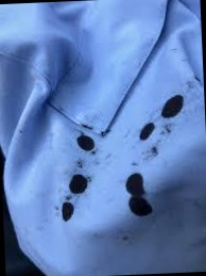ink: (126, 174, 152, 217), (161, 96, 183, 118), (68, 174, 88, 193), (76, 134, 94, 151), (61, 201, 74, 224), (141, 122, 155, 139)
